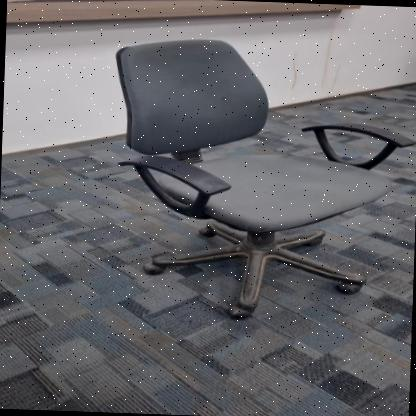chair: (103, 27, 416, 326)
